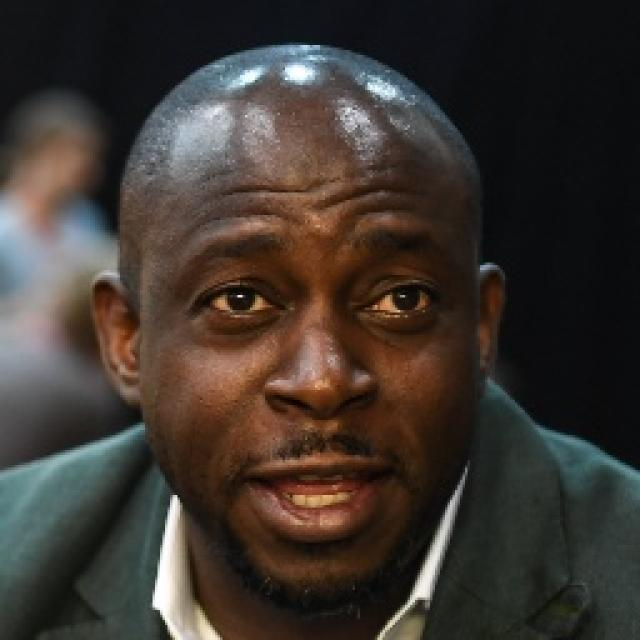earlobe: (119, 367, 147, 409)
eye: (367, 283, 442, 320), (199, 285, 283, 317)
nose: (259, 384, 391, 461)
wholeear: (88, 270, 148, 409), (476, 263, 506, 405)
